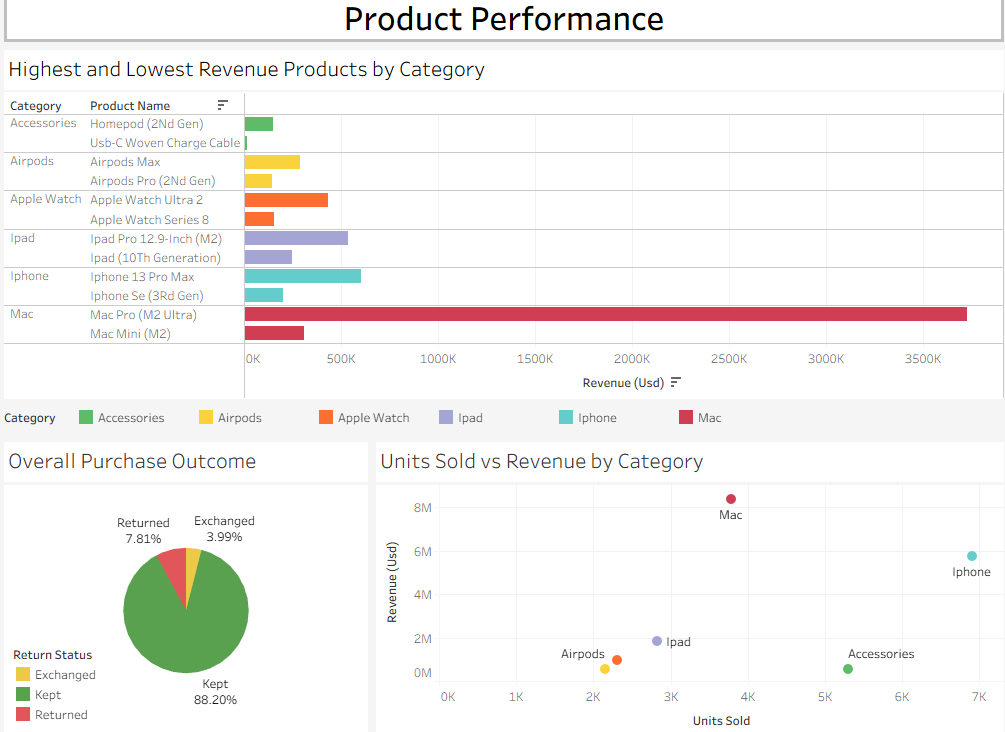

The page's visual inventory and layout, read from the dashboard file:
{"tool":"tableau","page":{"name":"Product Performance","canvas":[1024,768],"ordinal":1},"visuals":[{"type":"title","box":[8,8,1008,58]},{"type":"worksheet","title":"Best and Lowest Revenue Product per Category","mark":"Automatic","rows":["category","product_name"],"cols":["revenue_discounted_usd"],"box":[8,66,1008,357]},{"type":"legend","title":"Best and Lowest Revenue Product per Category","param":"[federated.1b0fkgo04lajpe1h7hosv1cskxv5].[none:category:nk]","box":[8,423,1008,35]},{"type":"worksheet","title":"Overall Purchase Outcome","mark":"Pie","box":[8,458,372,302]},{"type":"worksheet","title":"Units Sold vs Revenue by Category","mark":"Circle","rows":["revenue_discounted_usd"],"cols":["units_sold"],"box":[380,458,636,302]},{"type":"legend","title":"Overall Purchase Outcome","param":"[federated.1b0fkgo04lajpe1h7hosv1cskxv5].[none:return_status:nk]","box":[21,666,97,82]}]}

Visuals, with their boxes in screenshot pixels (x1, y1, x2, y2), scaled from the page's 1024x768 canvas onto the 1005x732 screenshot:
title: pyautogui.locateOnScreen(8, 8, 997, 63)
"Best and Lowest Revenue Product per Category" worksheet: pyautogui.locateOnScreen(8, 63, 997, 403)
"Best and Lowest Revenue Product per Category" legend: pyautogui.locateOnScreen(8, 403, 997, 437)
"Overall Purchase Outcome" worksheet (Pie marks): pyautogui.locateOnScreen(8, 437, 373, 724)
"Units Sold vs Revenue by Category" worksheet (Circle marks): pyautogui.locateOnScreen(373, 437, 997, 724)
"Overall Purchase Outcome" legend: pyautogui.locateOnScreen(21, 635, 116, 713)
